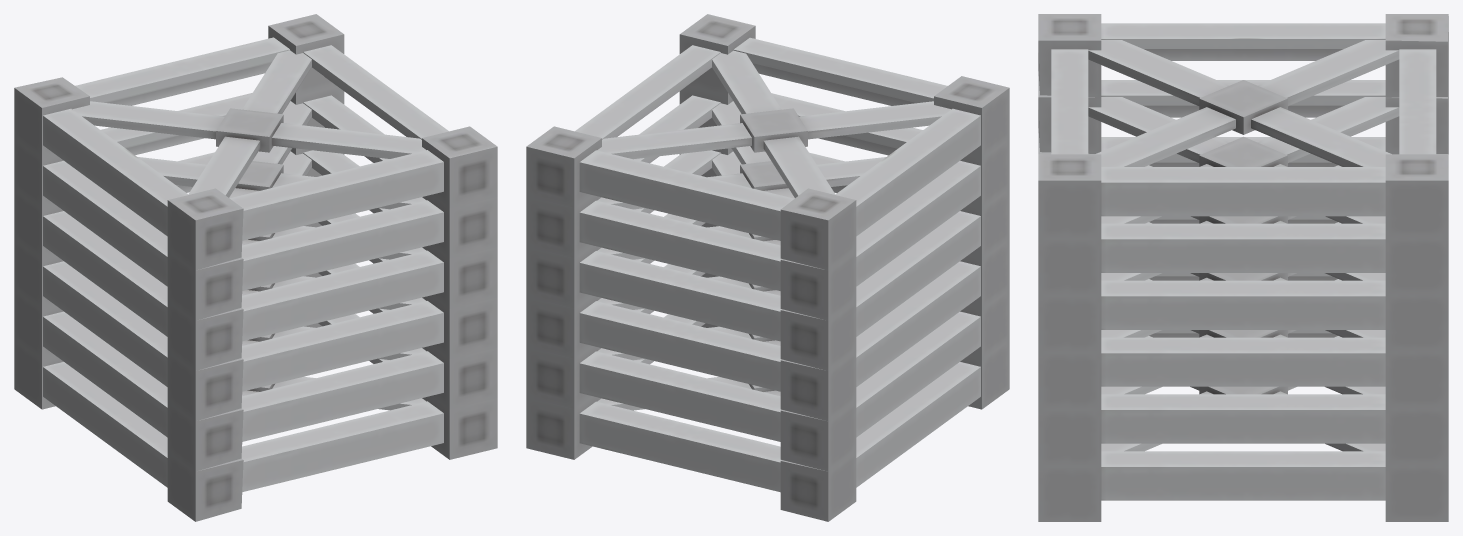
The model's file is Pfb_SteelFrame_01_GRP__2.fbx.
3 views of the same model, side by side, from view 1: azimuth 30°, elevation 25°; view 2: azimuth 150°, elevation 25°; view 3: azimuth 270°, elevation 25° (orthographic). The views are drawn at different scales.
Parts seen in each view (by area): view 1: Mat_SteelFrame_01 7; view 2: Mat_SteelFrame_01 7; view 3: Mat_SteelFrame_01 7.
Part boxes in pixels (x1=…): Mat_SteelFrame_01 7: x1=14, y1=14, x2=497, y2=521; Mat_SteelFrame_01 7: x1=526, y1=14, x2=1009, y2=521; Mat_SteelFrame_01 7: x1=1038, y1=14, x2=1448, y2=521.
Size of the model in its own units: 1.89 by 1.8 by 1.96.
1 material, 1 textured.
